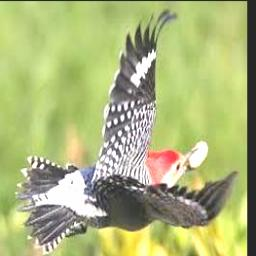Woodpecker: (15, 8, 238, 254)
